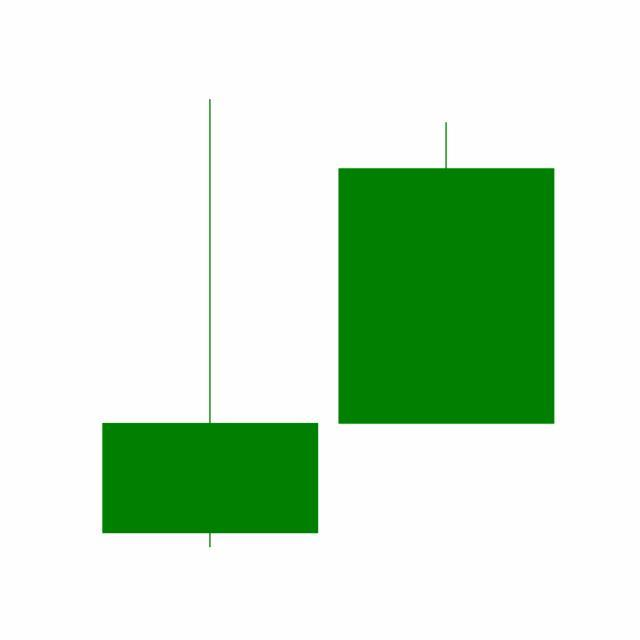Marubozu: (328, 119, 566, 428)
